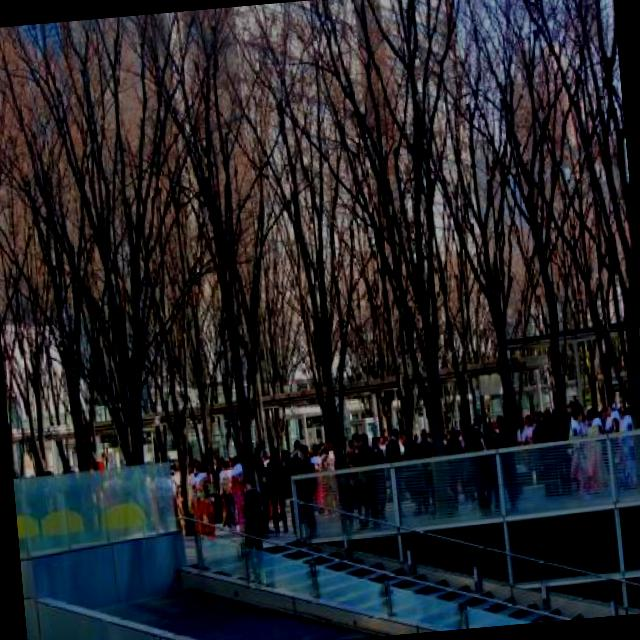Person: (10, 393, 640, 608)
